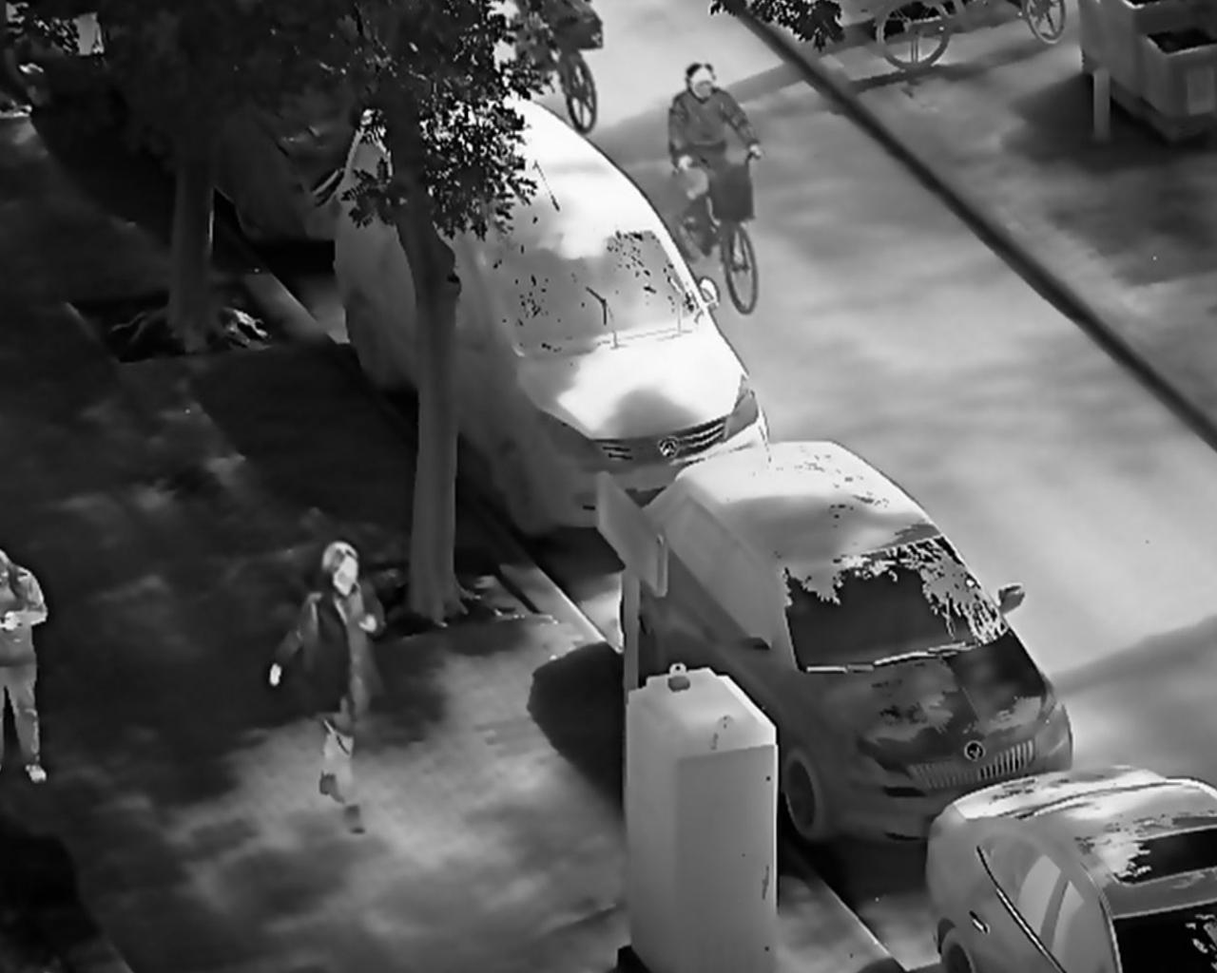person: (268, 533, 384, 844), (665, 56, 766, 265)
